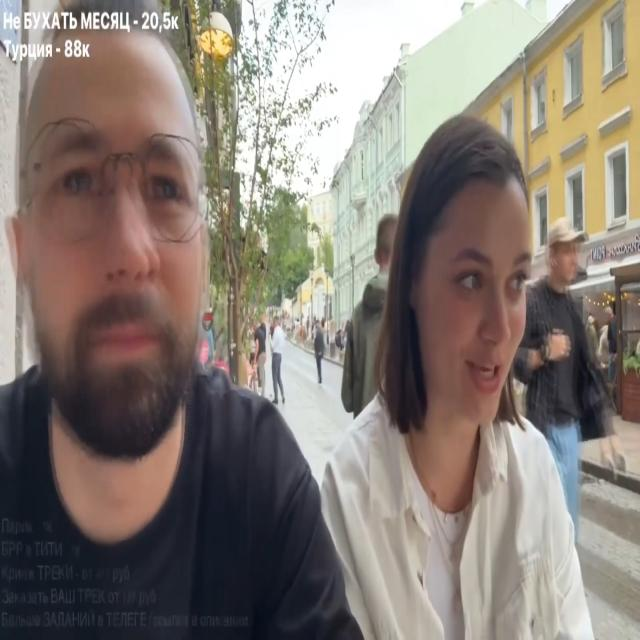Person: (0, 76, 348, 631), (315, 109, 619, 640), (512, 222, 606, 528), (343, 281, 388, 415), (261, 316, 289, 406)
